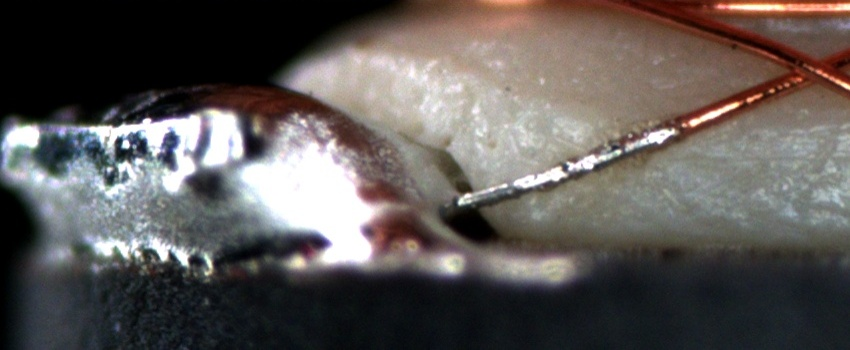CL: (765, 42, 845, 95)
DL: (648, 125, 850, 189)
TS: (456, 120, 680, 208)
